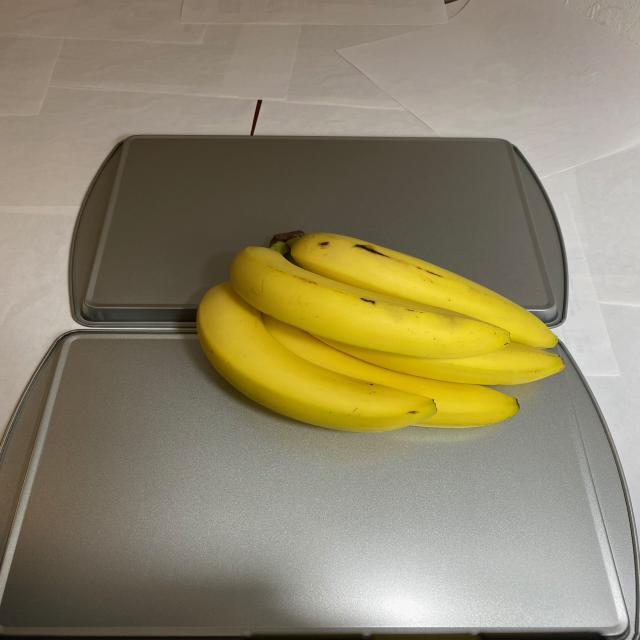banana: (194, 230, 568, 442)
